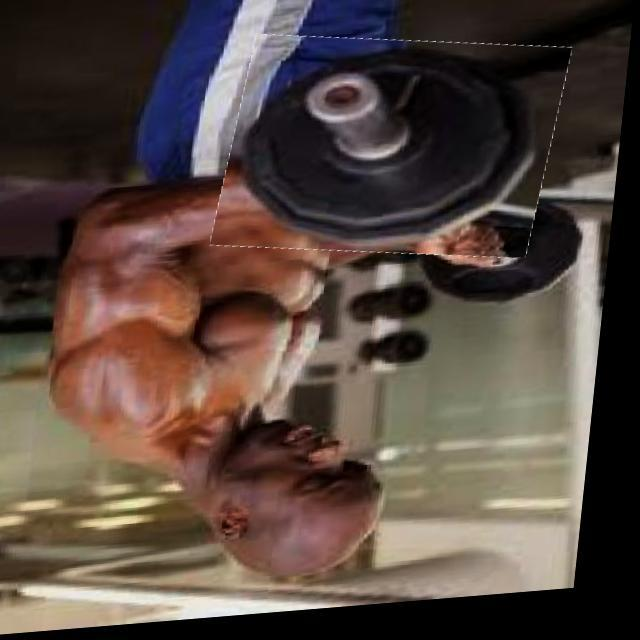barbell: (219, 29, 571, 278)
